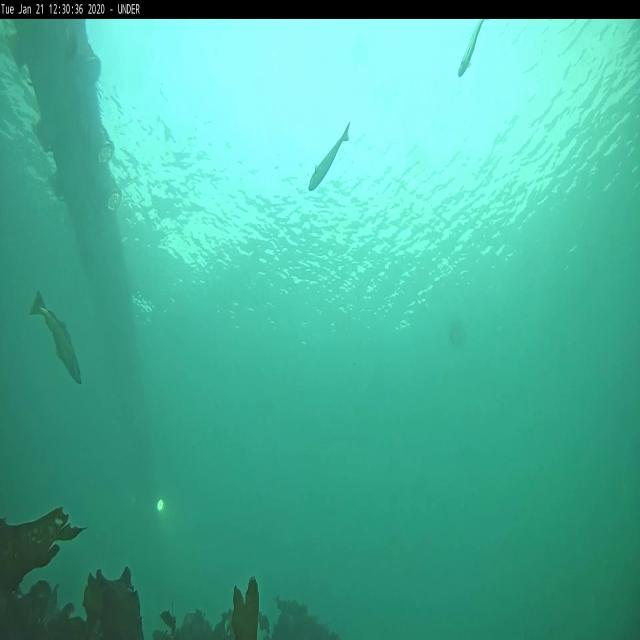fish: (28, 288, 84, 386), (308, 118, 350, 194), (458, 22, 482, 80)
